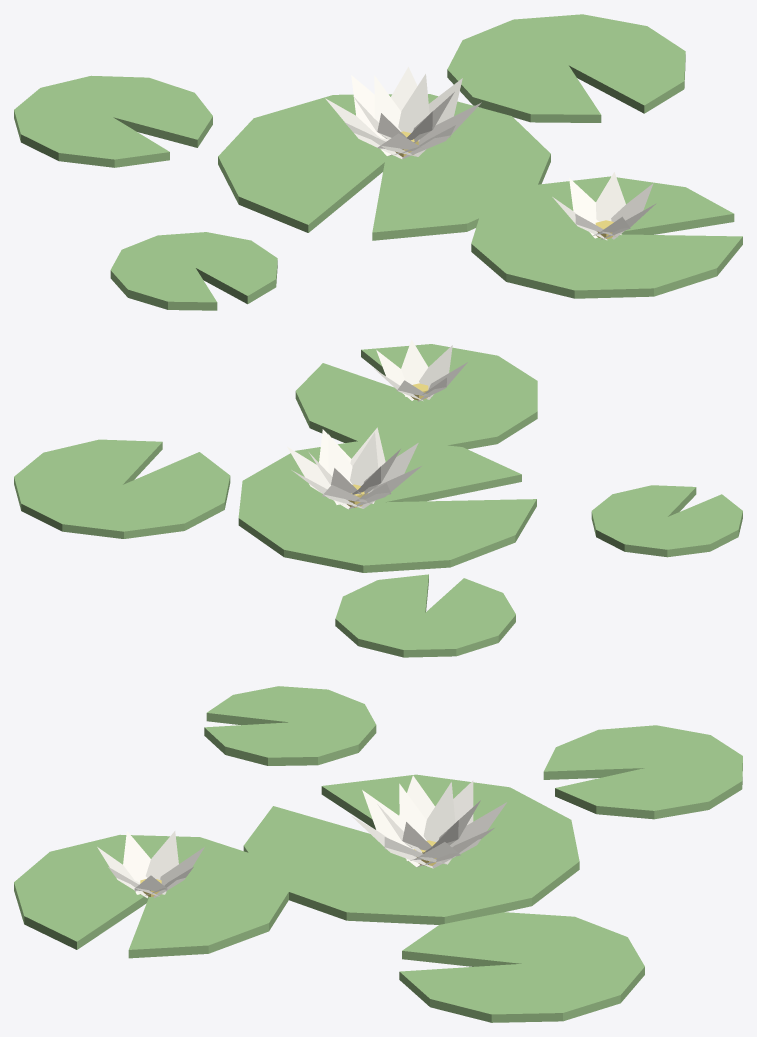
The model's file is Decor_LilyPads.fbx.
3 renders of one model, top to bottom at view 1: azimuth 30°, elevation 25°; view 2: azimuth 150°, elevation 25°; view 3: azimuth 270°, elevation 25°, orthographic. The views are drawn at different scales.
Parts seen in each view (by area): view 1: Decor_LilyPads; view 2: Decor_LilyPads; view 3: Decor_LilyPads.
Boxes of the visible parts, <box> form: Decor_LilyPads: <box>14,14,742,310</box>; Decor_LilyPads: <box>14,339,742,657</box>; Decor_LilyPads: <box>14,686,742,1022</box>.
Size of the model in its own units: 2.52 by 0.237 by 2.36.
